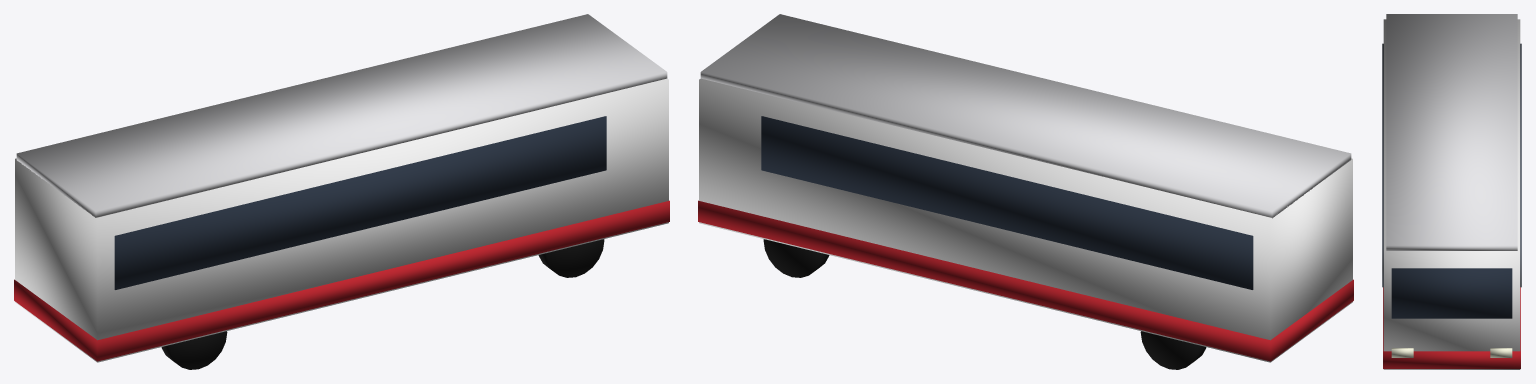
The model's file is traffic_bus.dae.
The picture shows the model from 3 angles, left to right: view 1: azimuth 30°, elevation 25°; view 2: azimuth 150°, elevation 25°; view 3: azimuth 270°, elevation 25°; orthographic projection. The views are drawn at different scales.
Visible parts, largest first — view 1: node0, node4, node2, node1, node7, node5; view 2: node0, node4, node2, node1, node8, node6; view 3: node4, node0, node3, node1, node2, node9, node10.
Boxes of the visible parts, x1,y1,x2,y2 form: node0: [15, 78, 668, 362]; node4: [16, 14, 667, 217]; node2: [114, 116, 606, 289]; node1: [14, 200, 669, 361]; node7: [538, 239, 604, 277]; node5: [161, 331, 227, 369]; node0: [699, 78, 1352, 362]; node4: [700, 14, 1351, 218]; node2: [761, 116, 1253, 289]; node1: [698, 200, 1353, 361]; node8: [763, 239, 829, 277]; node6: [1140, 331, 1206, 369]; node4: [1386, 14, 1517, 250]; node0: [1383, 19, 1520, 369]; node3: [1391, 268, 1512, 318]; node1: [1383, 287, 1520, 368]; node2: [1382, 43, 1521, 287]; node9: [1391, 348, 1413, 357]; node10: [1490, 348, 1512, 357].
Bounding box in the file's own units: 10.05 × 2.54 × 3.06.
